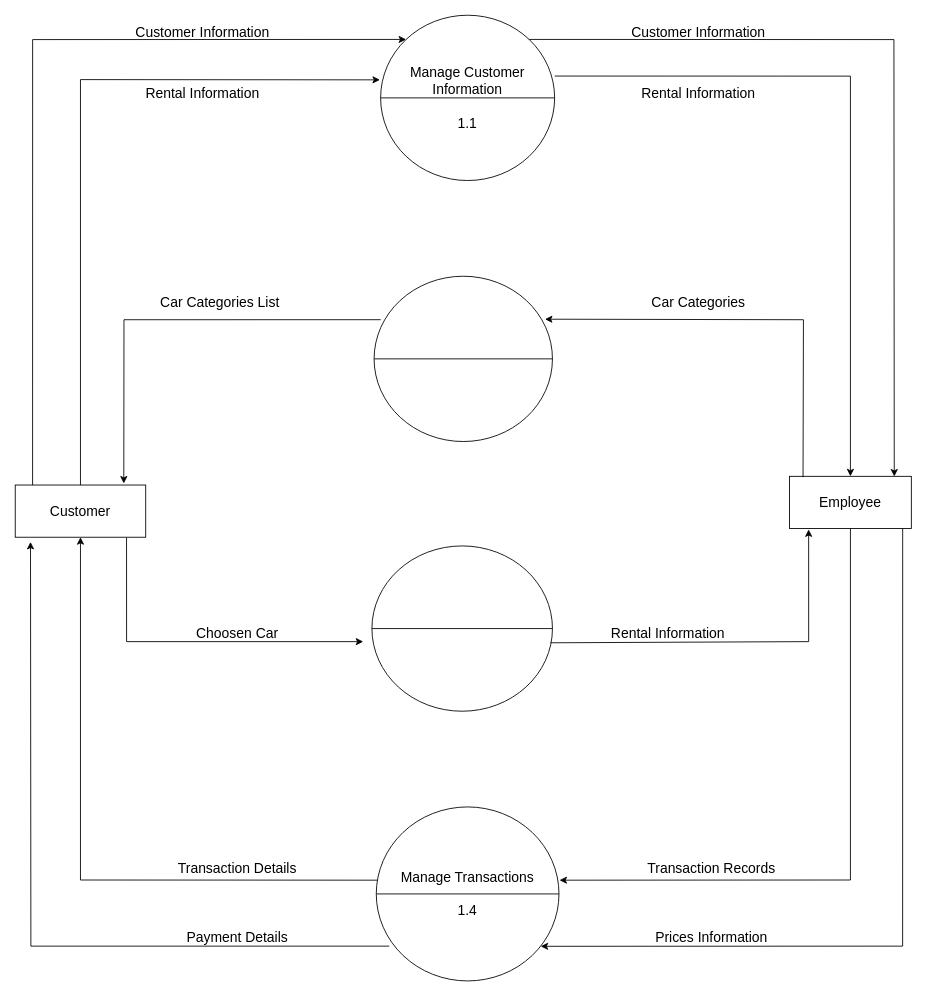
The diagram is 927 pixels wide and 996 high, and some of its shapes have lost their labels. Each missing label, with the box of its shape:
Manage Car Information 1.2: (373, 275, 552, 442)
Monitor Car Rentals 1.3: (371, 545, 552, 711)
